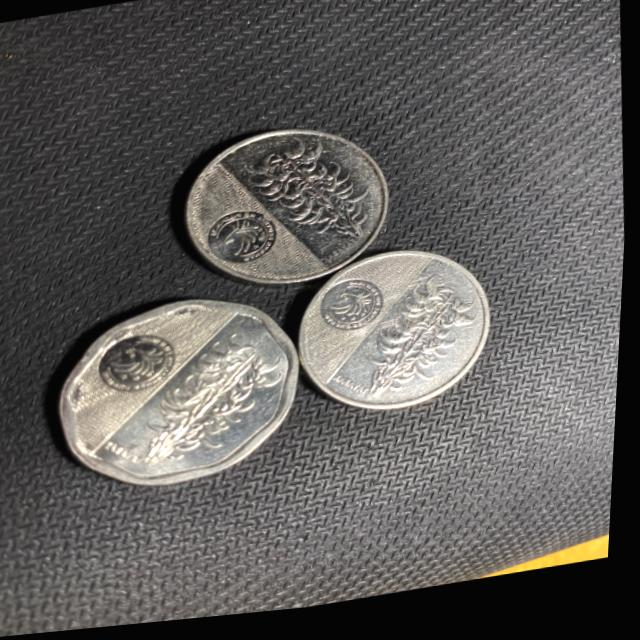5_New_Back: (136, 334, 276, 471), (252, 139, 384, 264), (361, 280, 478, 404)
